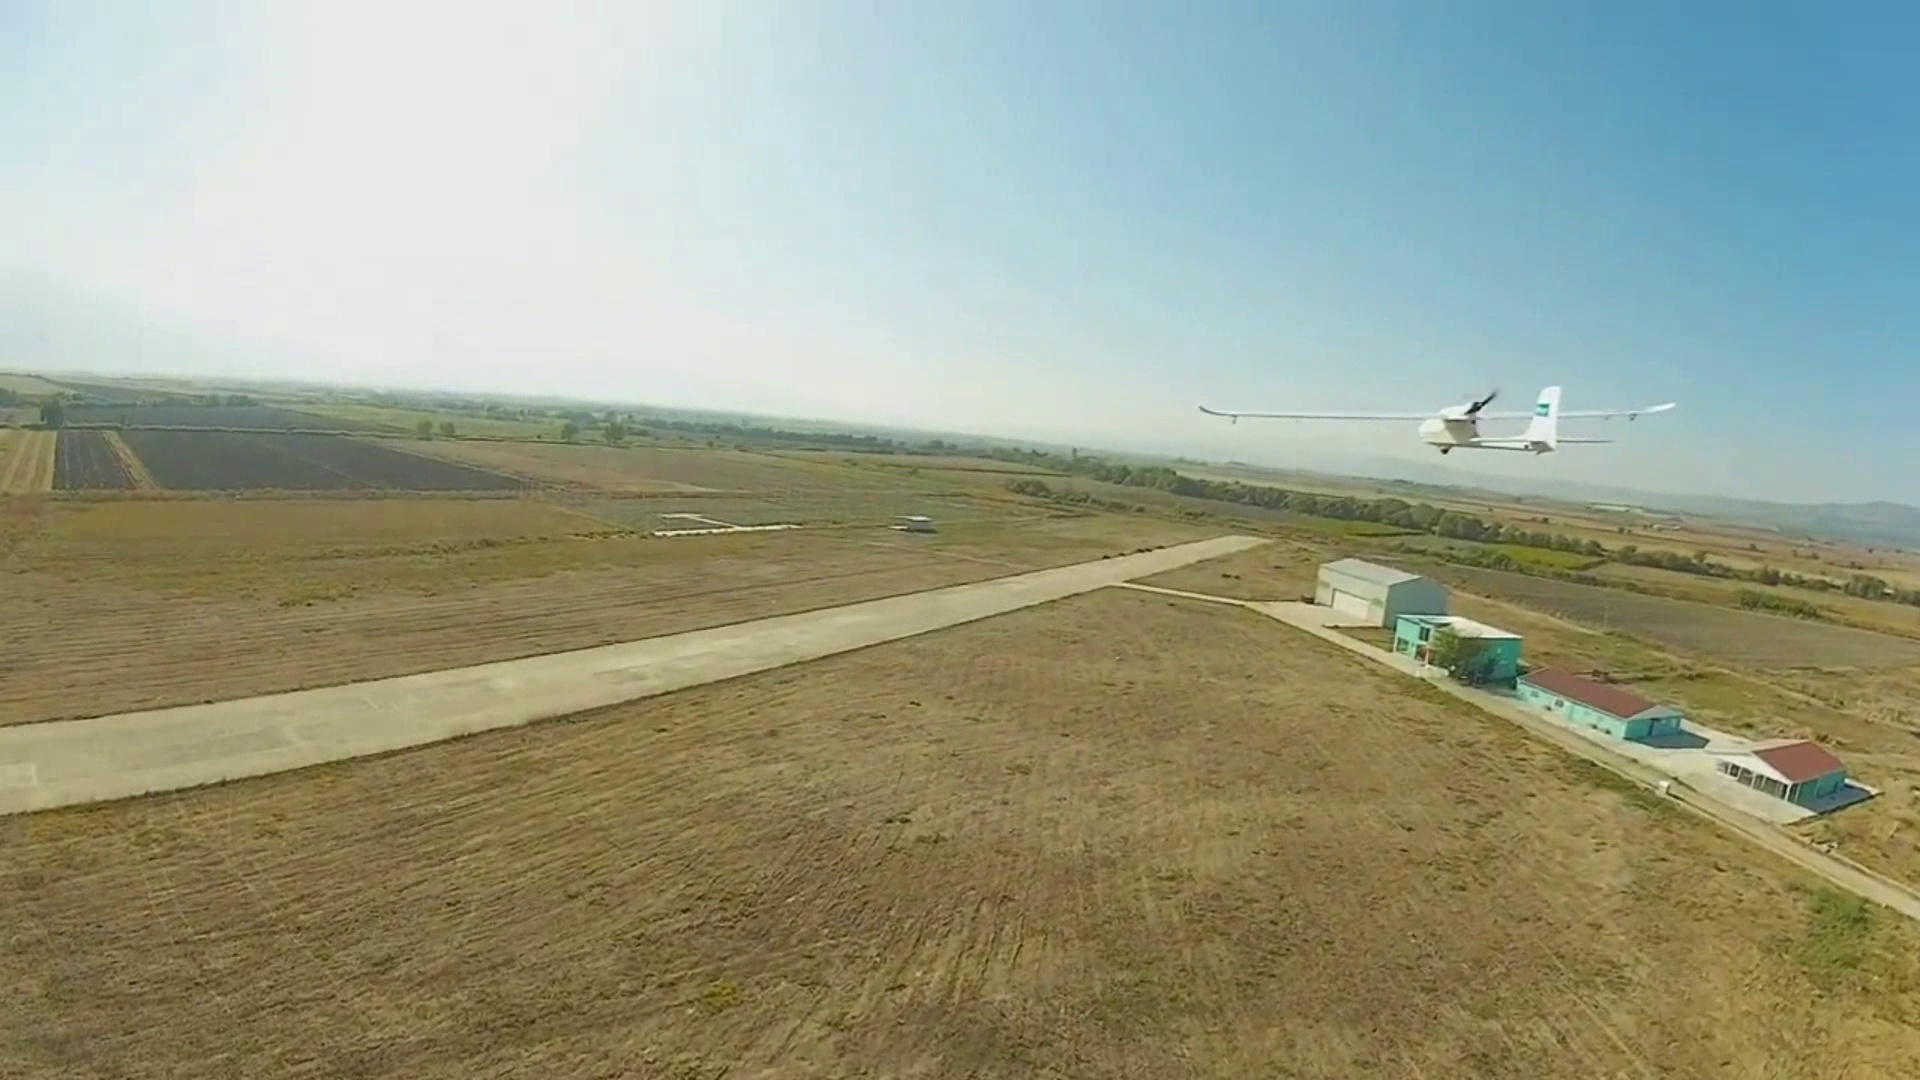airplane: (1196, 378, 1676, 455)
